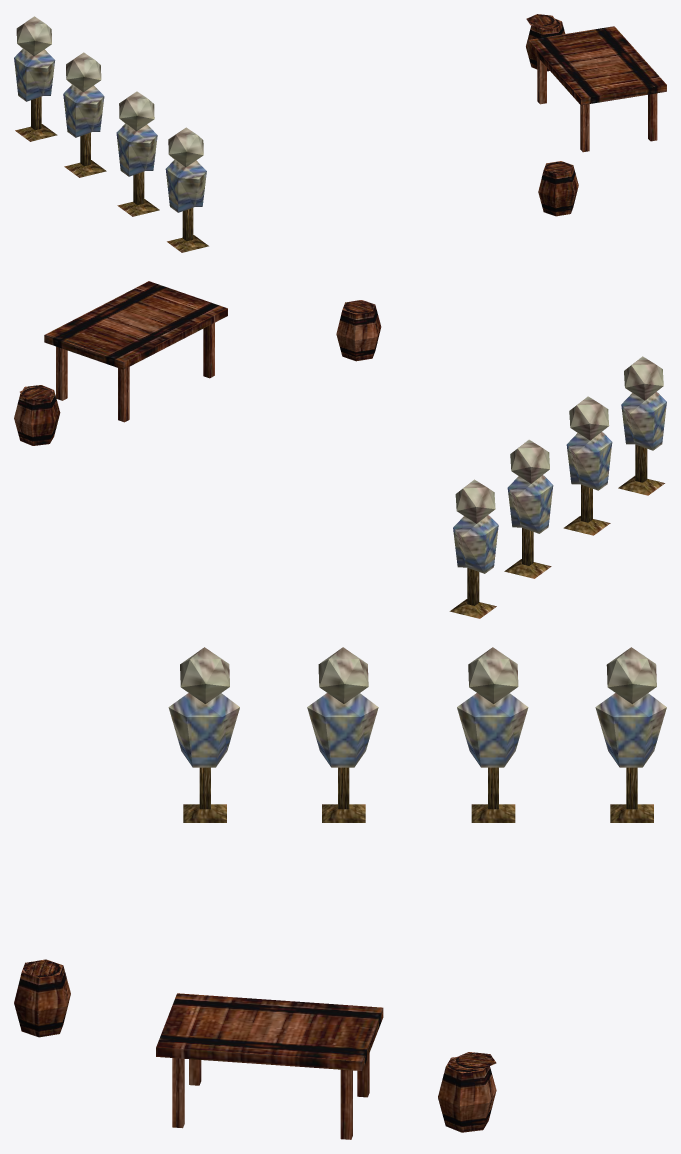
Rendered from chin_barracks_props.dae.
3 renders of one model, top to bottom at view 1: azimuth 30°, elevation 25°; view 2: azimuth 150°, elevation 25°; view 3: azimuth 270°, elevation 25°, orthographic. The views are drawn at different scales.
Visible parts, largest first — view 1: barrels; view 2: barrels; view 3: barrels.
Part boxes in pixels (x1,y1,x2,y2): barrels: [14, 14, 666, 252]; barrels: [14, 281, 666, 618]; barrels: [14, 647, 666, 1139].
Size of the model in its own units: 12.32 by 9.87 by 2.64.
